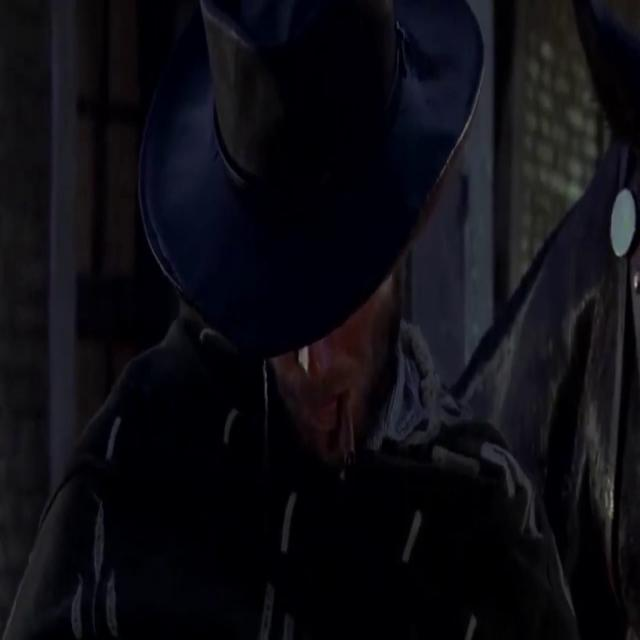Smooking: (339, 390, 362, 469)
